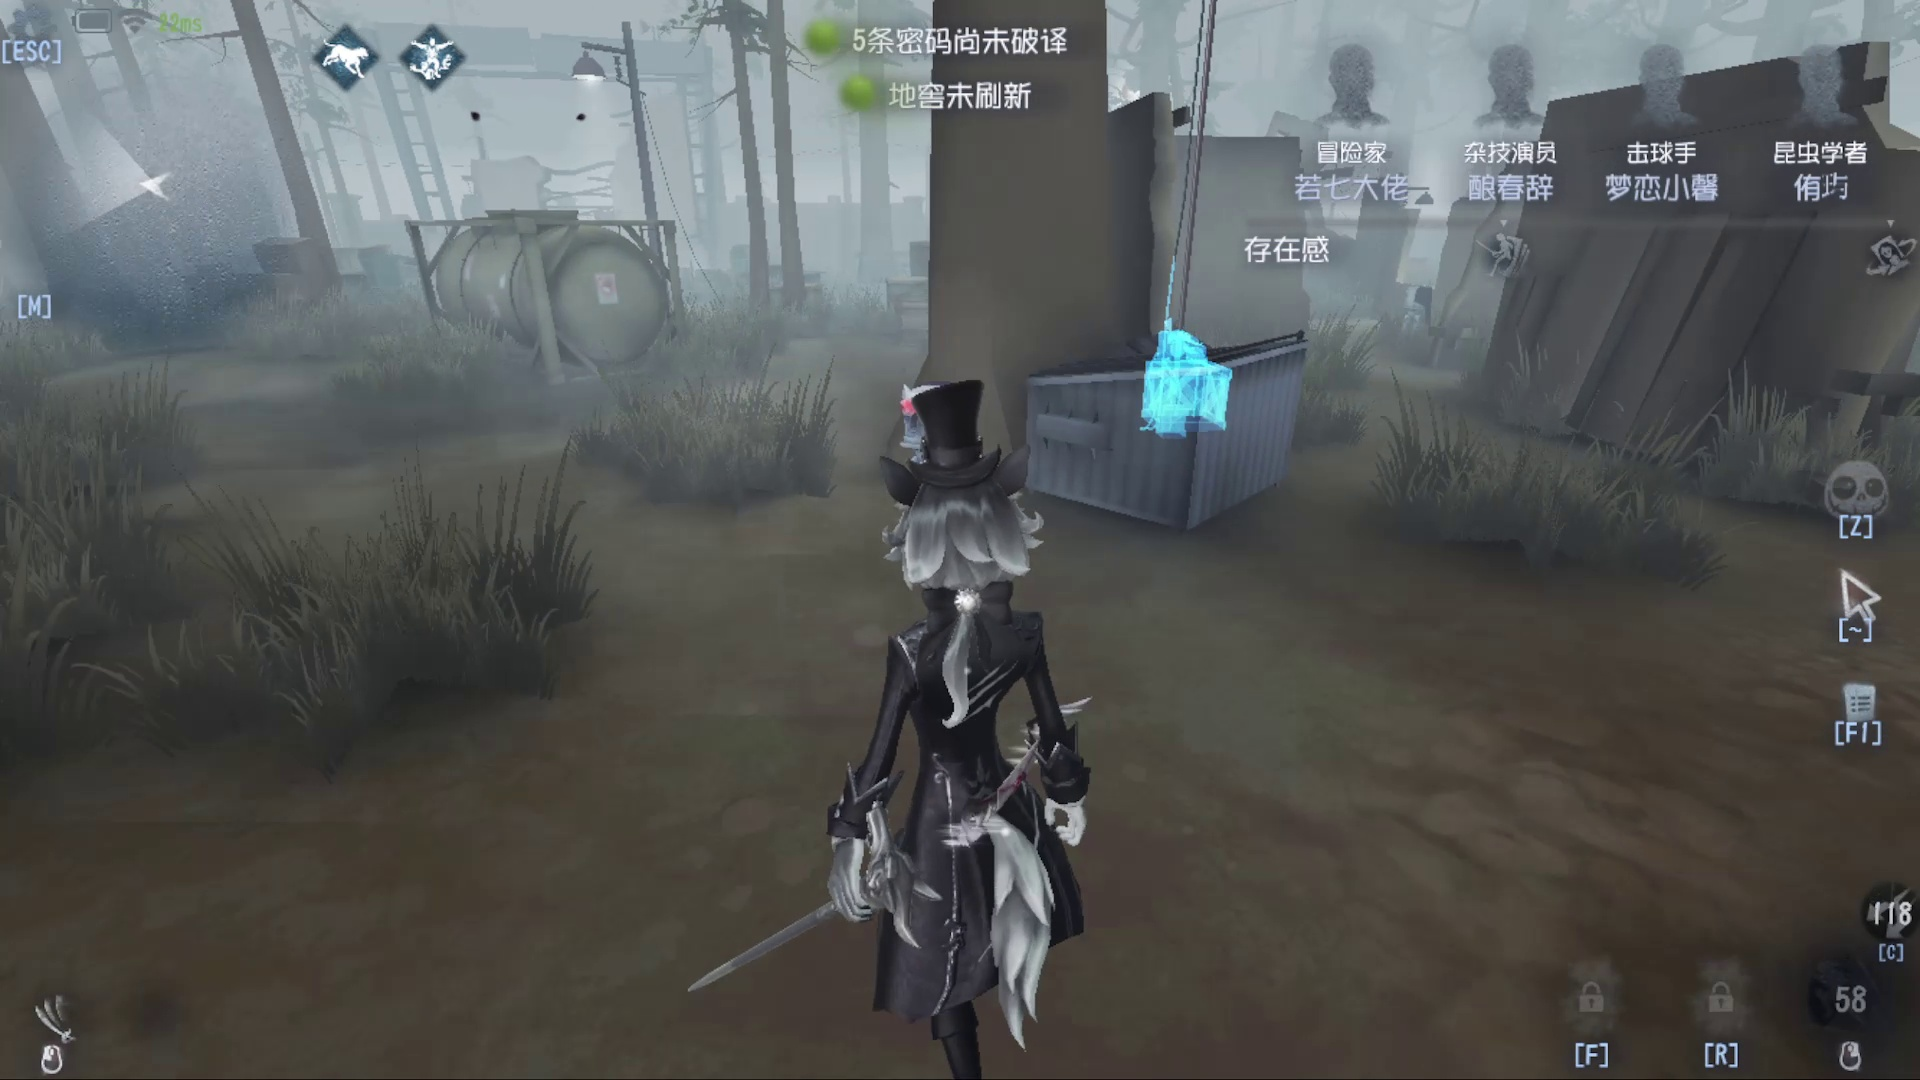密码机: (1137, 15, 1269, 477)
